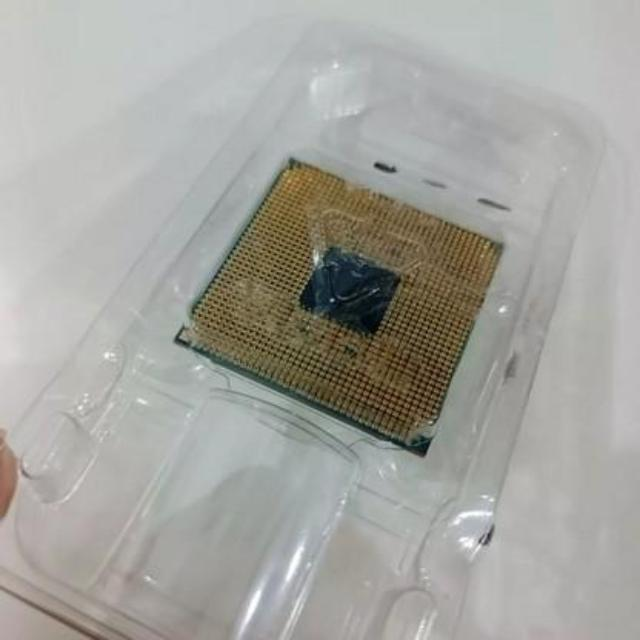CPU: (180, 158, 498, 456)
